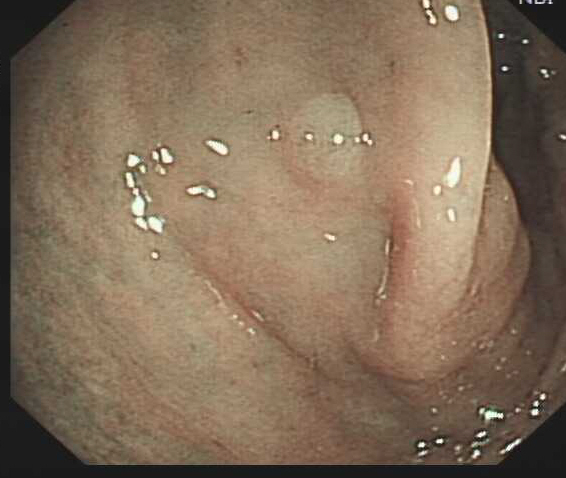others: (281, 90, 364, 187)
